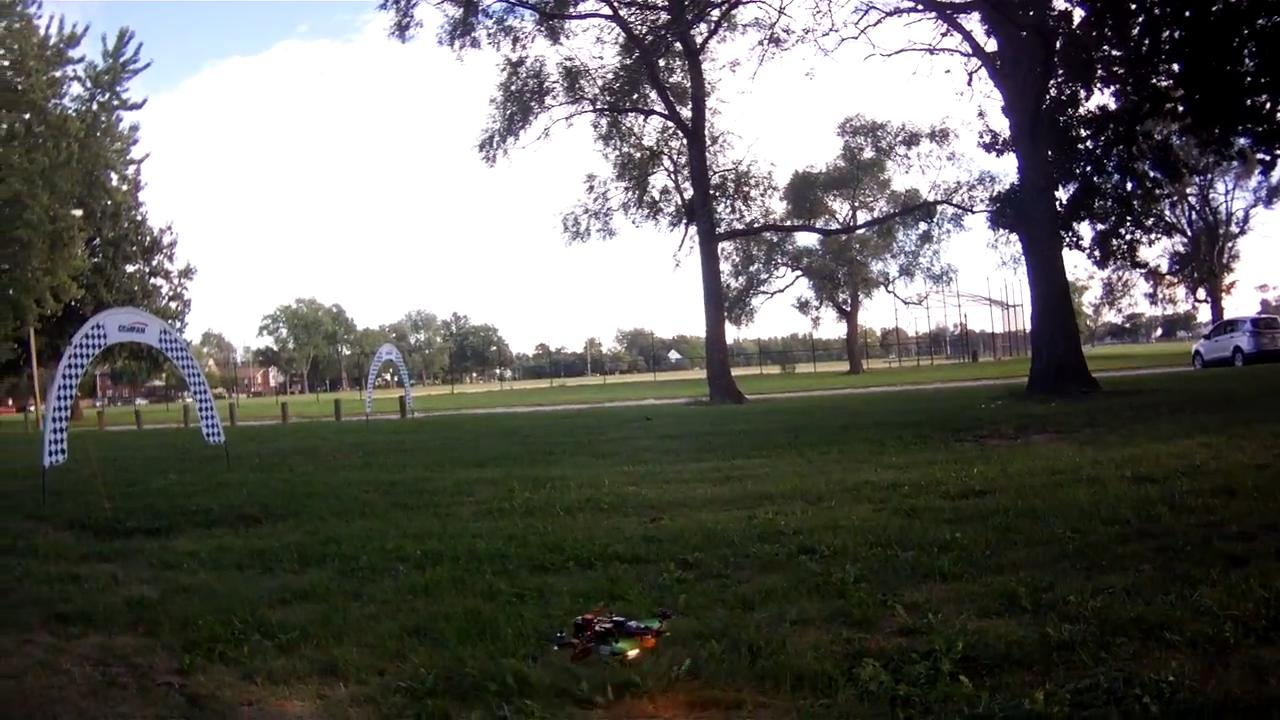gate: (35, 302, 224, 467), (366, 342, 414, 418)
